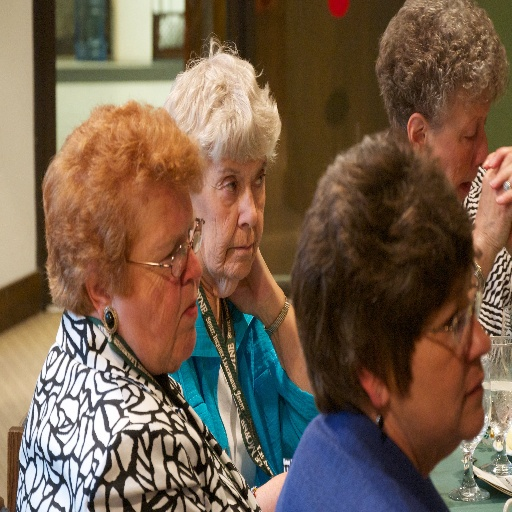hand: (226, 245, 279, 317), (479, 144, 511, 256)
